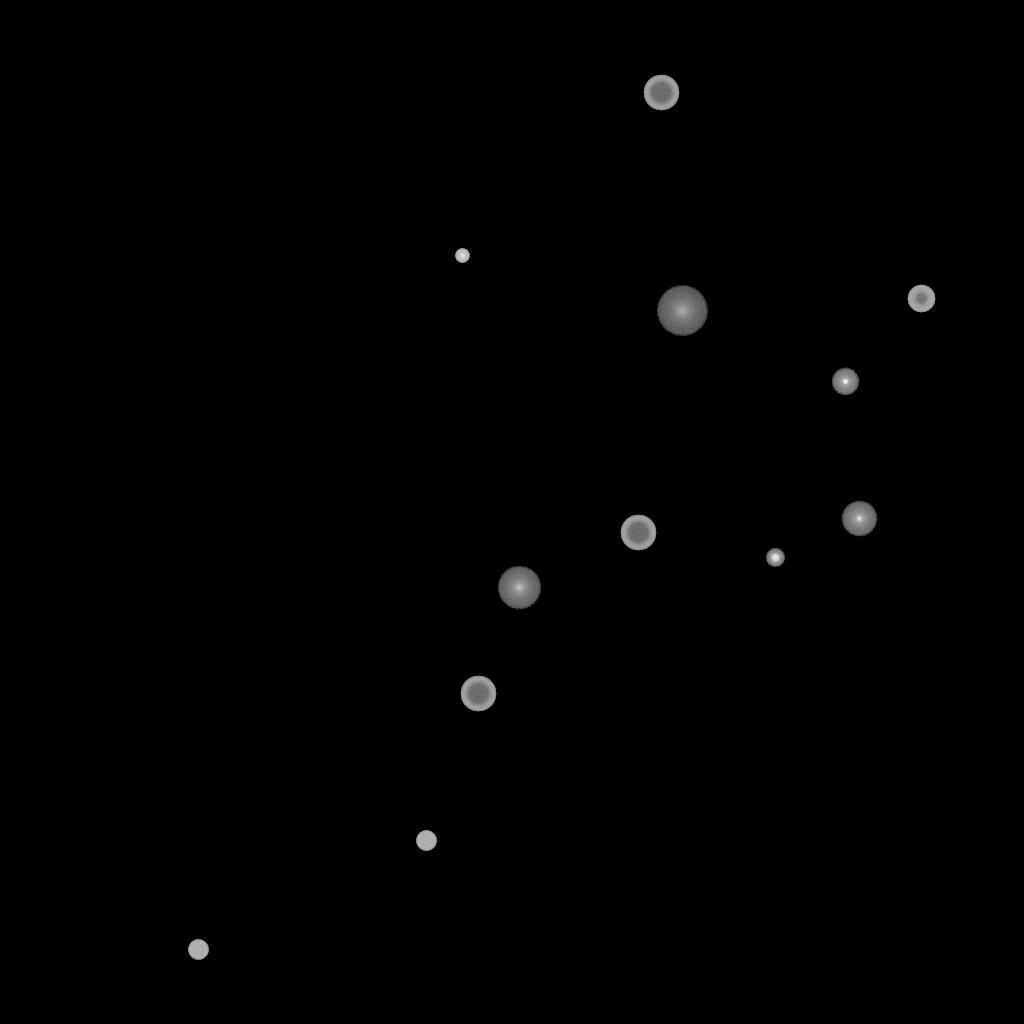depth:-10: (831, 368, 859, 396)
depth:-20: (766, 549, 784, 567)
depth:-30: (455, 249, 469, 263)
depth:-40: (416, 831, 436, 851), (188, 940, 208, 960)
depth:-50: (907, 285, 935, 313)
depth:-60: (643, 75, 679, 111), (460, 676, 496, 712), (620, 515, 656, 551)
depth:0: (841, 501, 877, 537)
depth:10: (497, 566, 541, 610)
depth:20: (656, 286, 708, 336)
